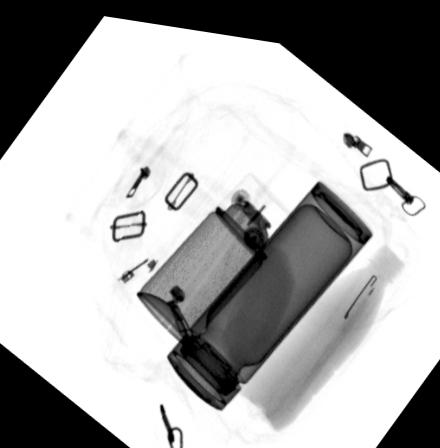Sprayer: (133, 161, 299, 343)
